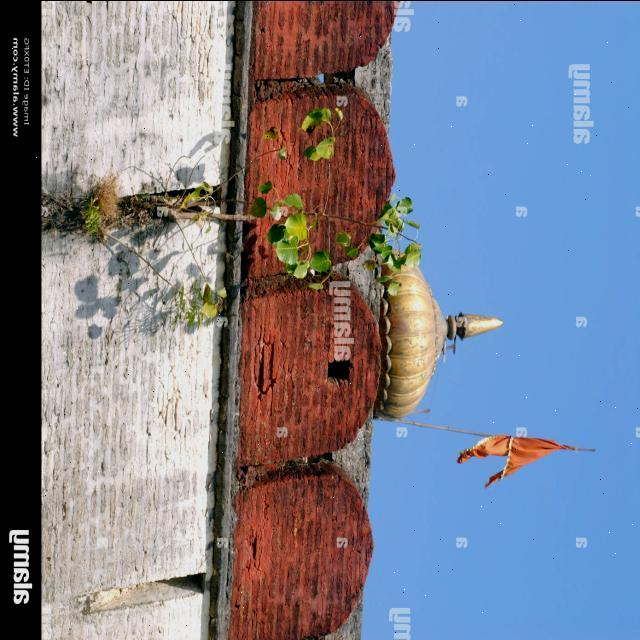corrosion: (376, 259, 503, 427), (172, 207, 263, 224)
crack: (332, 28, 396, 633), (147, 194, 408, 234), (447, 428, 599, 491), (202, 385, 236, 640), (377, 413, 580, 446), (83, 575, 204, 617), (220, 7, 243, 184), (229, 2, 258, 108), (253, 70, 359, 97), (198, 571, 208, 593)
dampens: (239, 456, 347, 492), (255, 77, 302, 102), (85, 587, 124, 612), (249, 536, 258, 560)
dampness: (93, 221, 174, 284)
vegetation: (215, 427, 379, 639), (248, 162, 420, 291), (262, 200, 332, 284), (43, 174, 133, 238), (73, 259, 129, 341), (324, 272, 357, 389), (176, 277, 226, 330), (297, 106, 344, 161), (182, 131, 227, 171), (157, 388, 184, 431), (181, 182, 214, 214), (263, 125, 288, 160)
